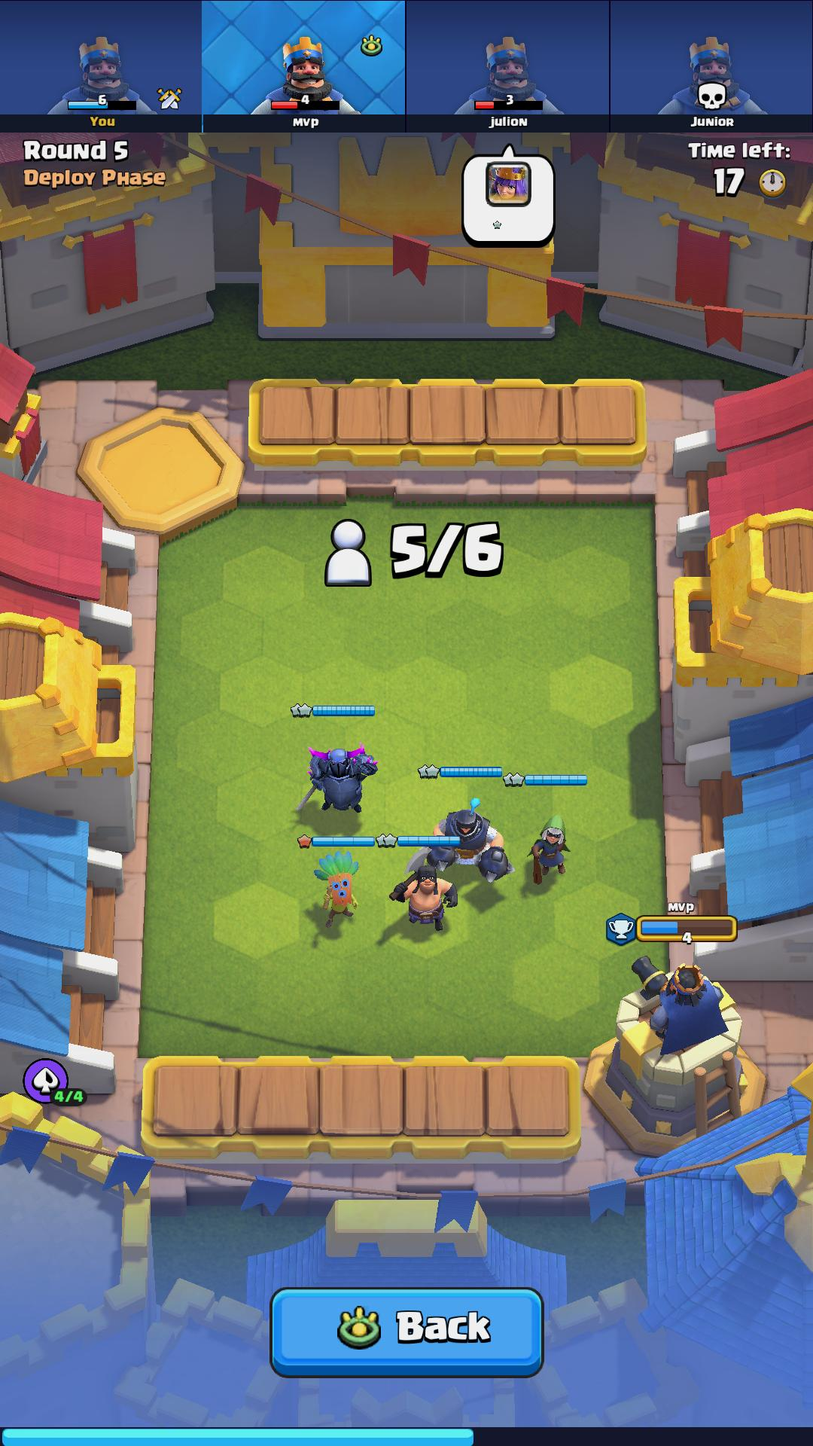bandit: (523, 808, 573, 887)
dart: (302, 848, 377, 927)
executioner: (385, 856, 467, 937)
mega: (420, 793, 516, 885)
pekka: (301, 742, 379, 816)
